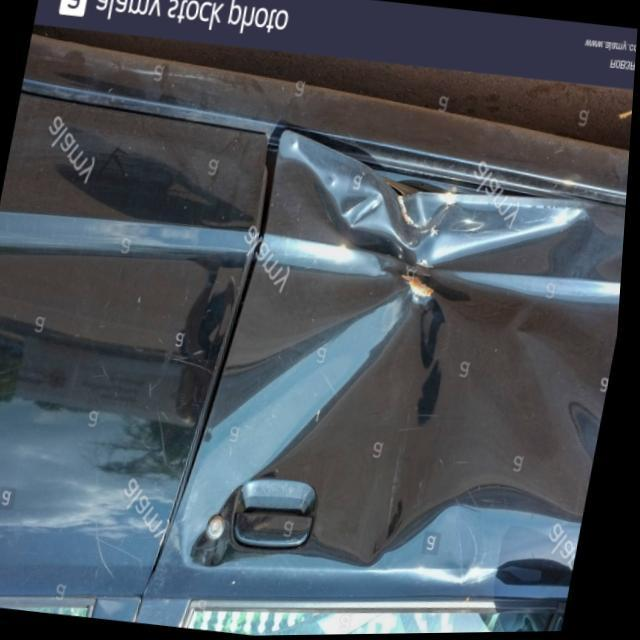Dent: (243, 211, 629, 526)
